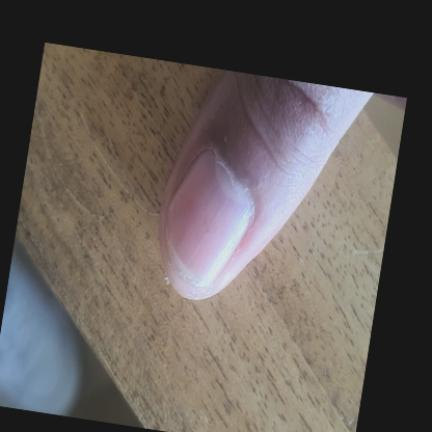Nail: (164, 150, 253, 286)
